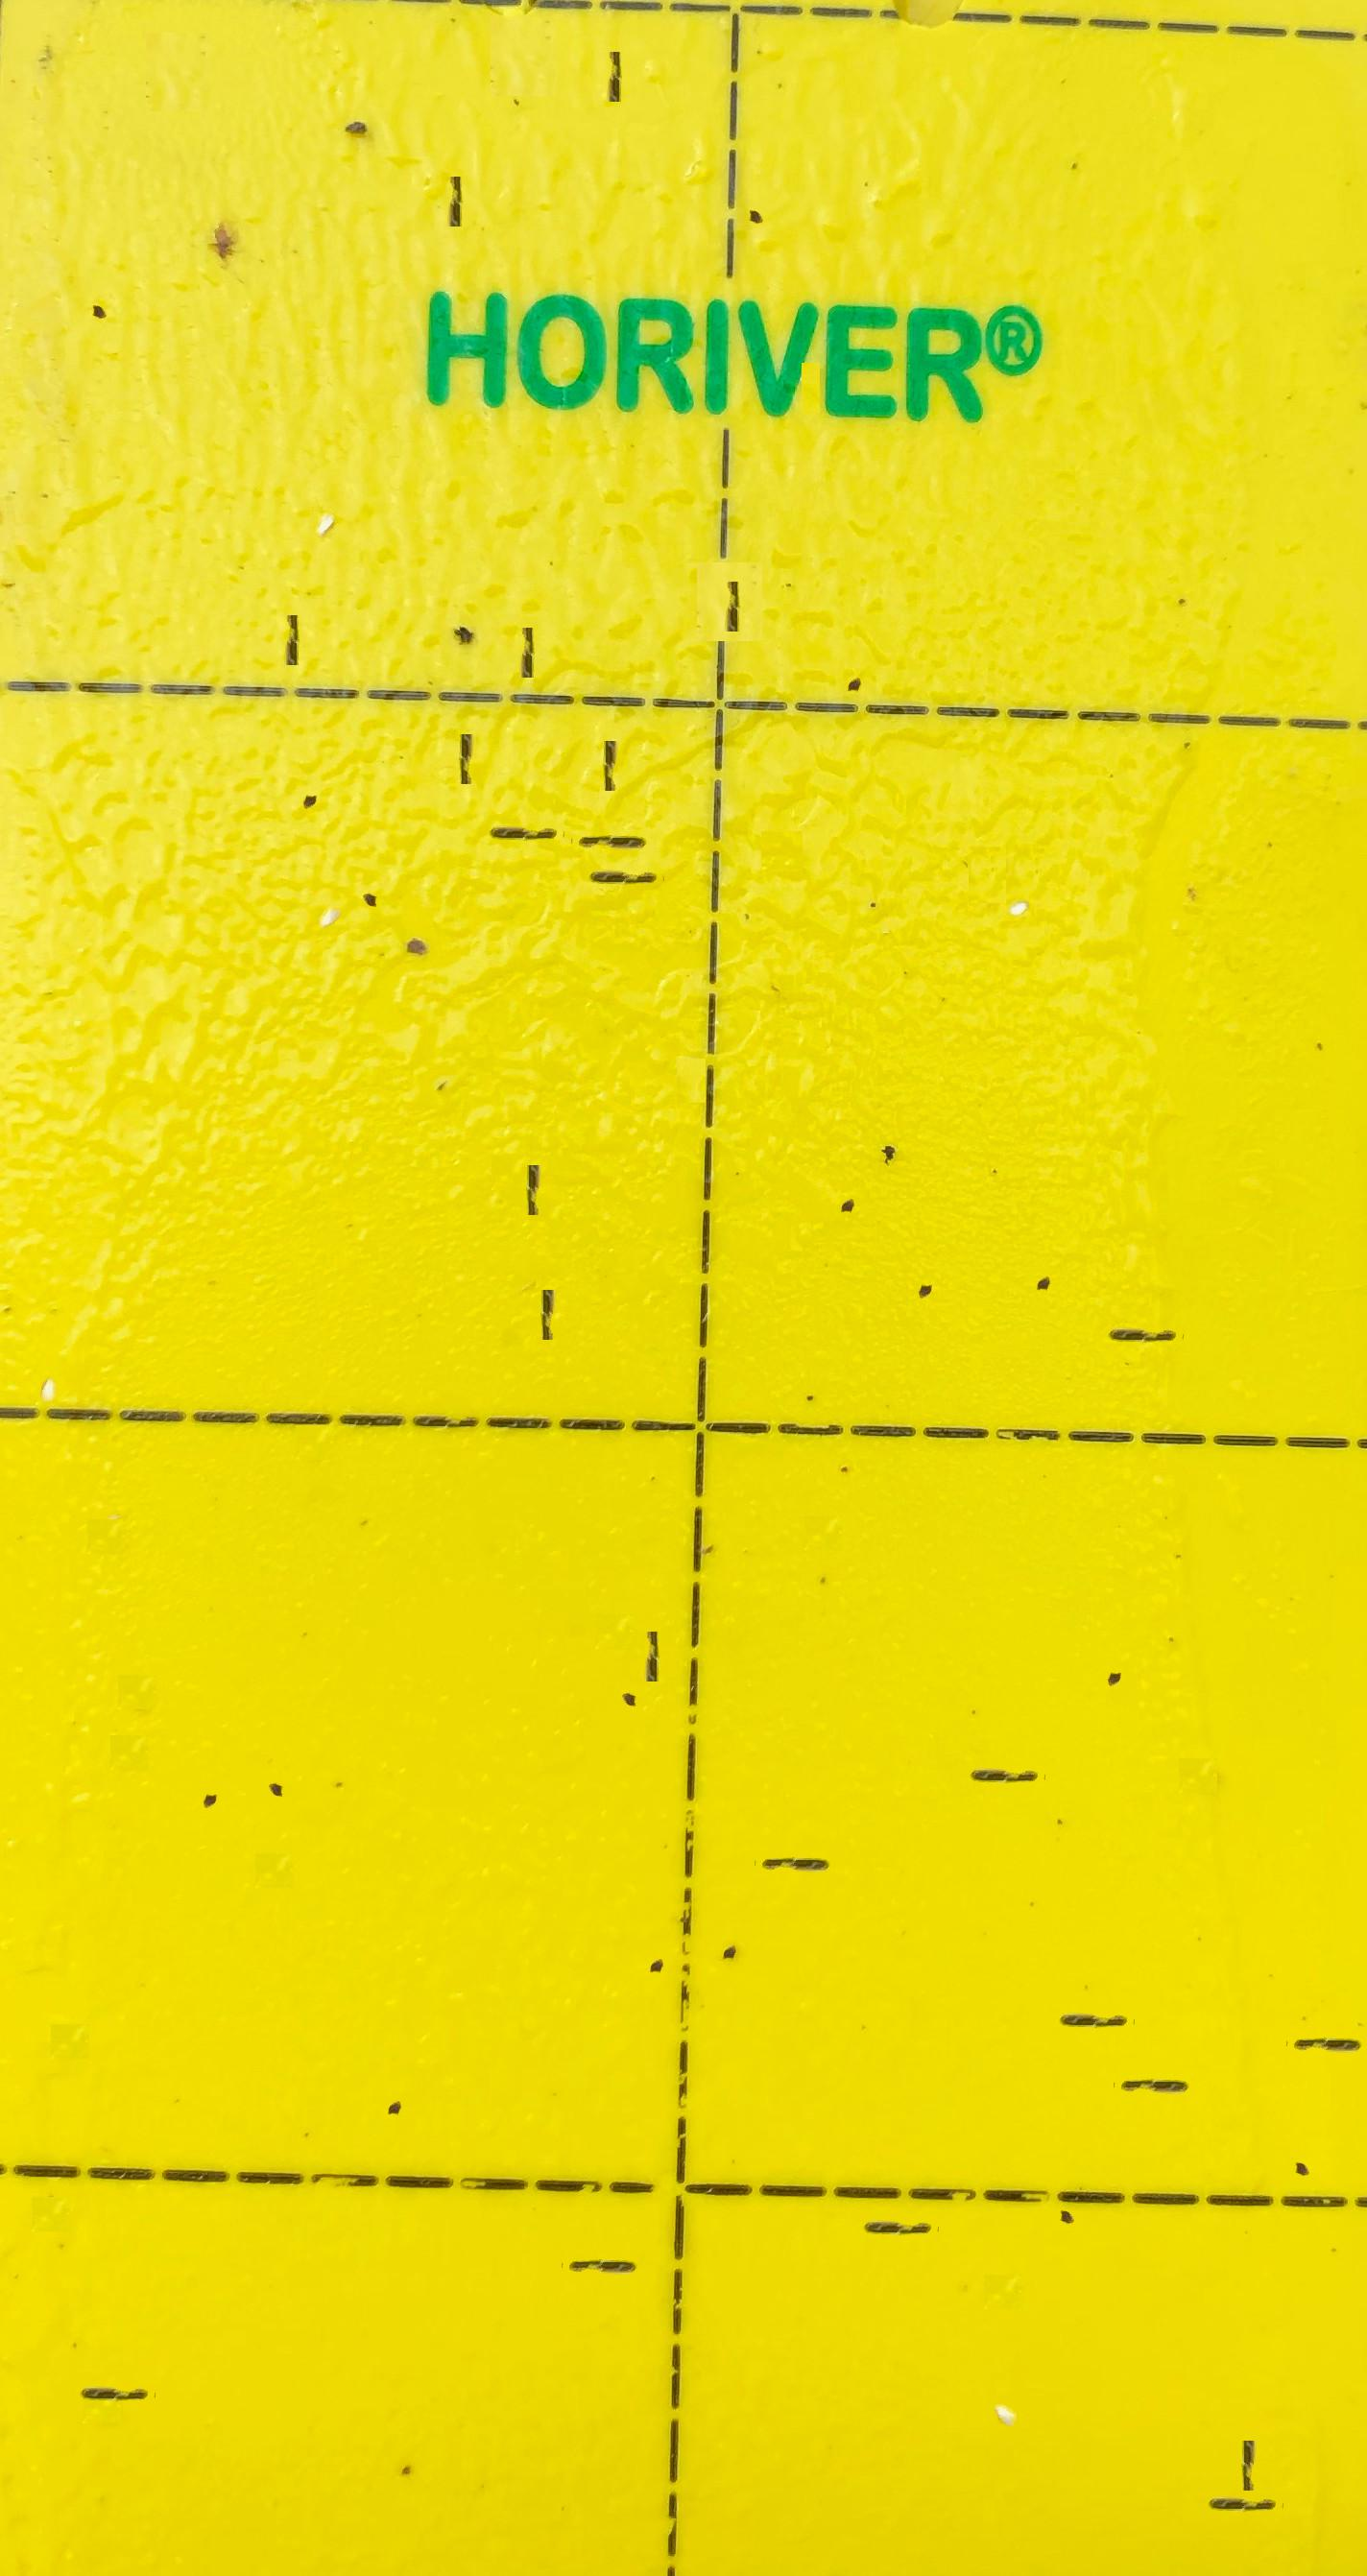white_fly: (302, 453, 344, 499), (997, 837, 1038, 884), (985, 2351, 1028, 2395), (309, 852, 351, 894), (26, 1336, 66, 1373)
